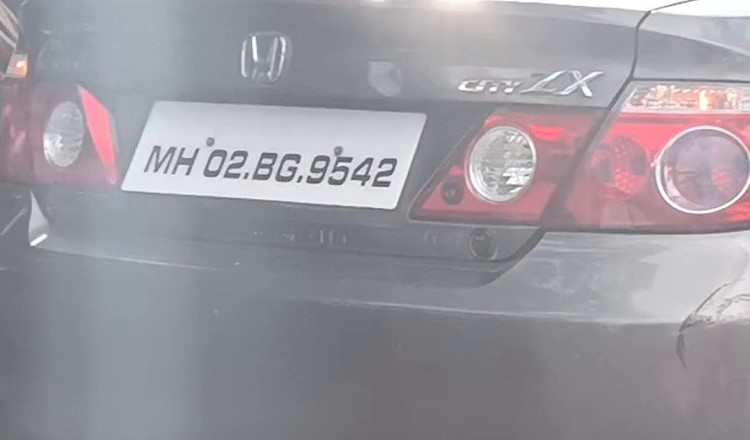MH02BG9542: (121, 99, 427, 209)
